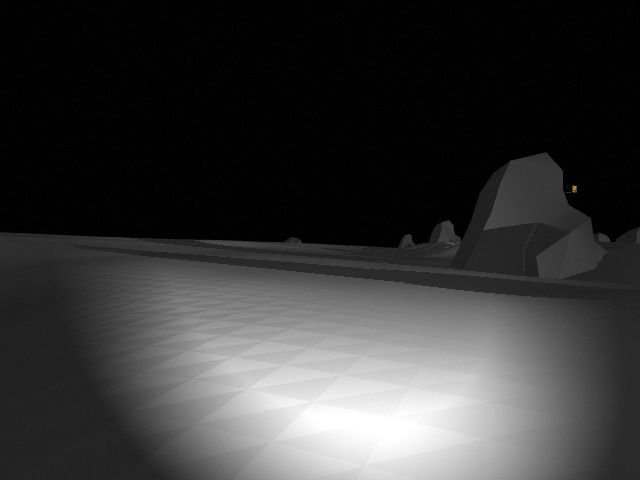cubesat: (566, 183, 579, 197)
